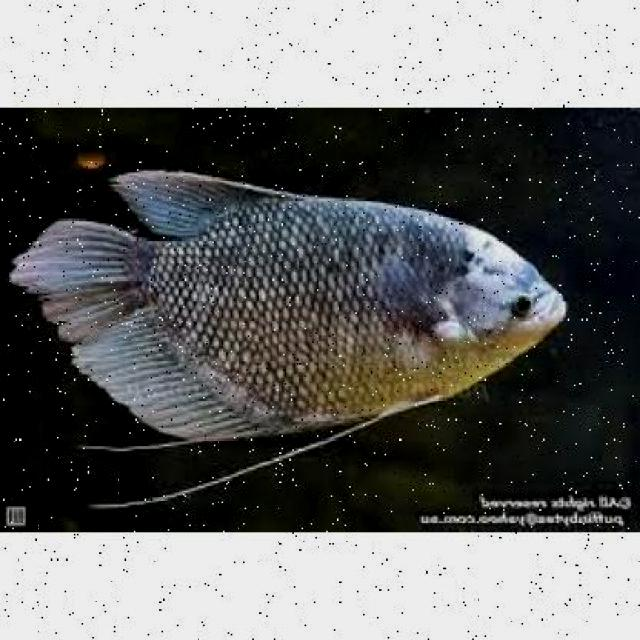gurame: (12, 165, 566, 480)
